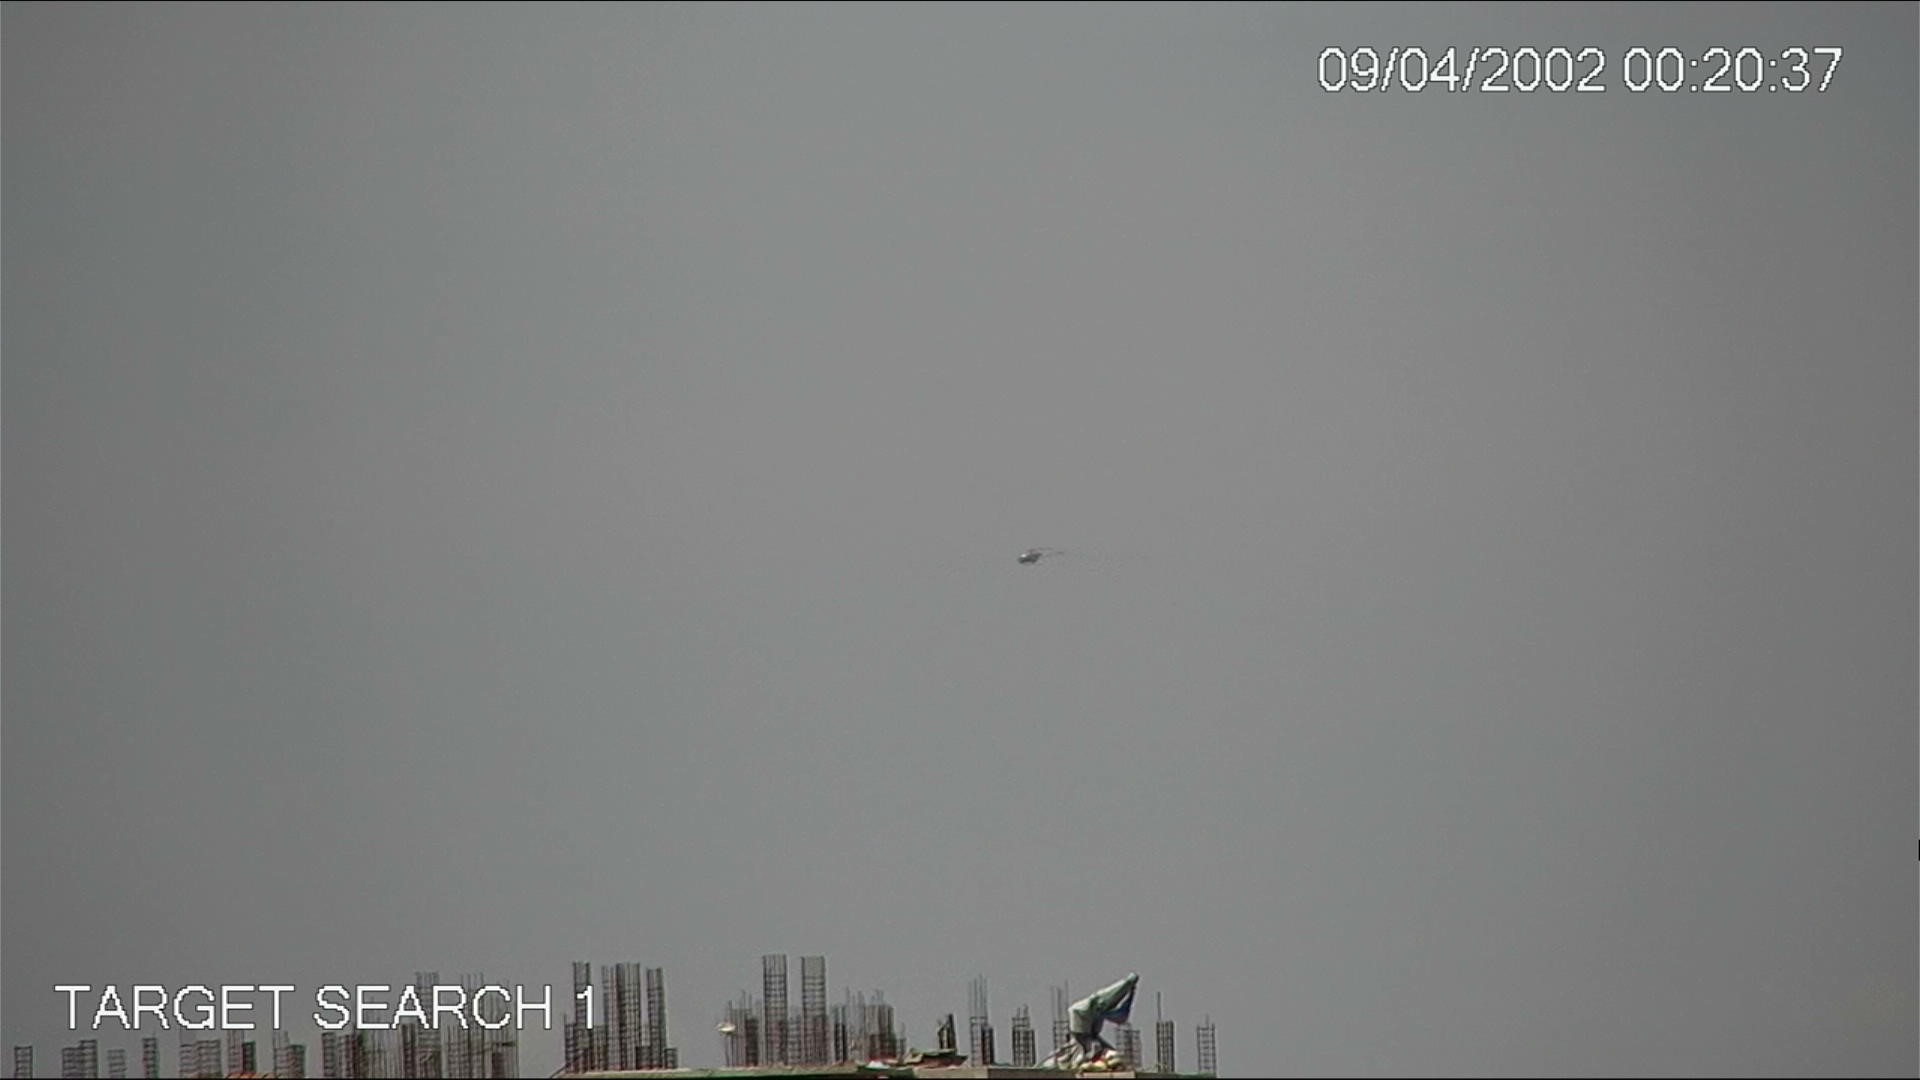SU_30: (1013, 545, 1044, 567)
